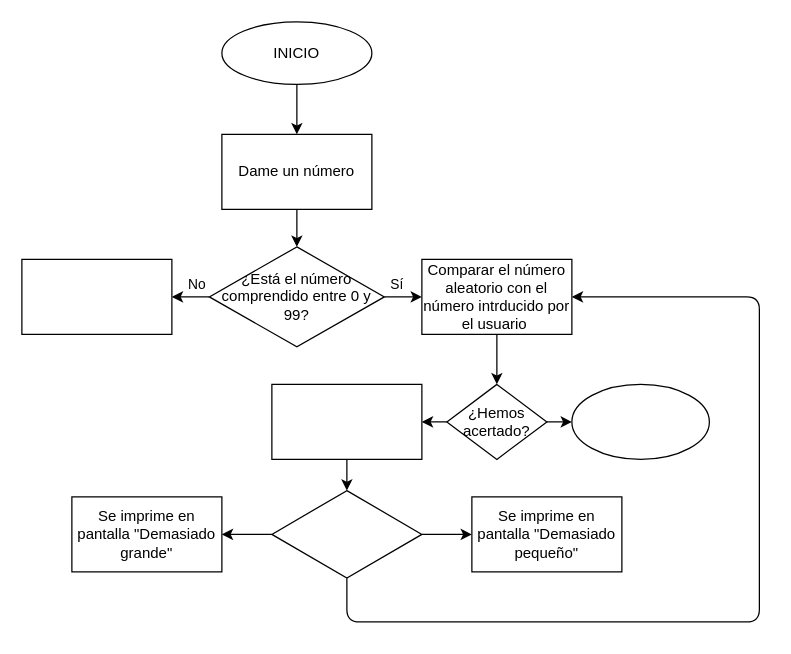
Some shapes in this 791 by 654 pixel diagram are drawn without their labels. The centre of each missing label's shape, as x and y in pixels:
Se compara el número aleatorio con el número introducido: the point at 346,421
Se imprime en pantalla "error de escritura": the point at 96,296
Se imprime en pantalla "¡Ha ganado!": the point at 640,421
¿Es el número aleatorio mayor que el introducido?: the point at 346,533
